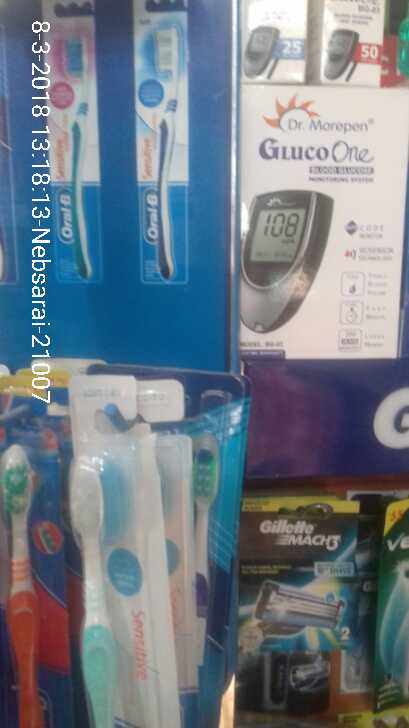beauty: (241, 497, 366, 728)
pharmacy: (66, 444, 142, 728), (1, 430, 58, 728)
